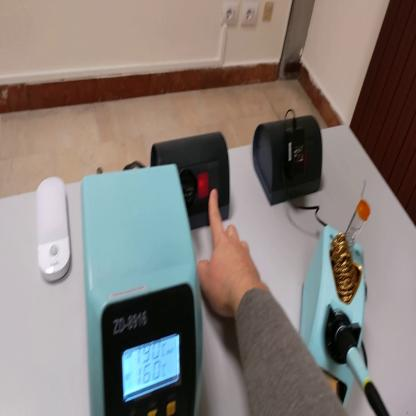hand: (198, 187, 261, 319)
socket: (154, 125, 235, 230), (251, 115, 324, 207)
welder base: (303, 202, 391, 416)
welder probe tip: (336, 314, 386, 414)
welder station: (79, 162, 206, 415)
